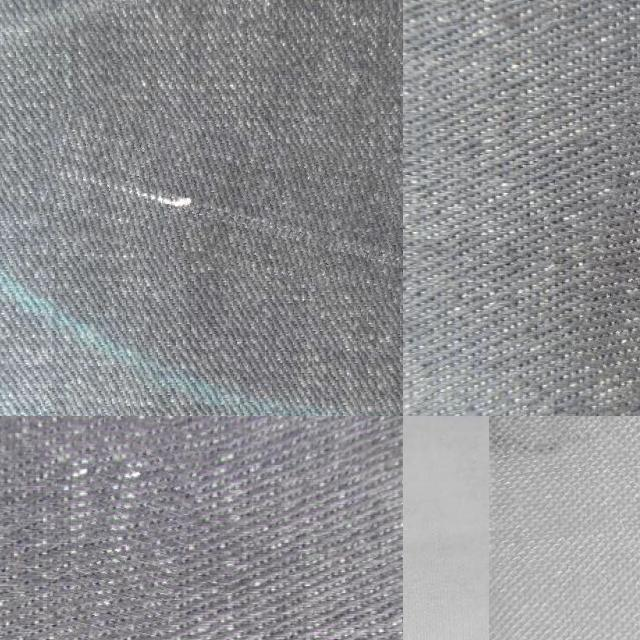stains: (33, 120, 403, 307), (10, 416, 177, 640)
